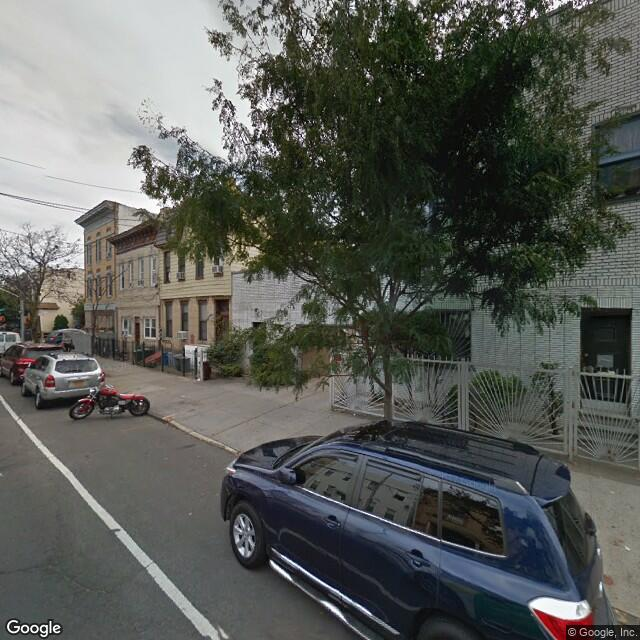litter: (608, 488, 621, 498), (623, 547, 633, 554), (193, 378, 203, 383)
